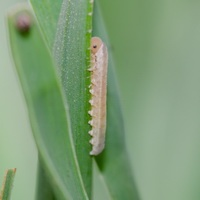insect: (89, 37, 107, 154), (16, 13, 30, 33)
